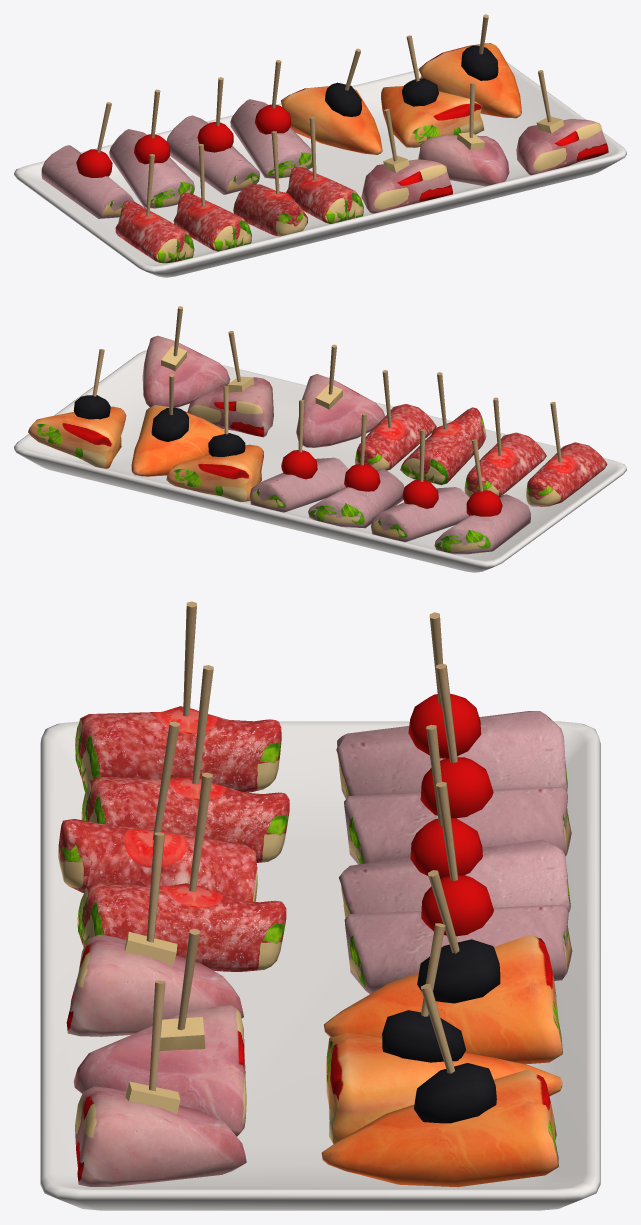
File: BuffetSnacks02_3.FBX
3 views of the same model, one above another, from view 1: azimuth 30°, elevation 25°; view 2: azimuth 150°, elevation 25°; view 3: azimuth 270°, elevation 25° (orthographic). The views are drawn at different scales.
Visible parts, largest first — view 1: BuffetSnacks02_3; view 2: BuffetSnacks02_3; view 3: BuffetSnacks02_3.
Part boxes in pixels (x1,y1,x2,y2): BuffetSnacks02_3: [14, 14, 626, 277]; BuffetSnacks02_3: [14, 306, 626, 572]; BuffetSnacks02_3: [40, 601, 600, 1210].
Size of what is drawn, in the model's own units: 0.6 by 0.1212 by 0.3.
